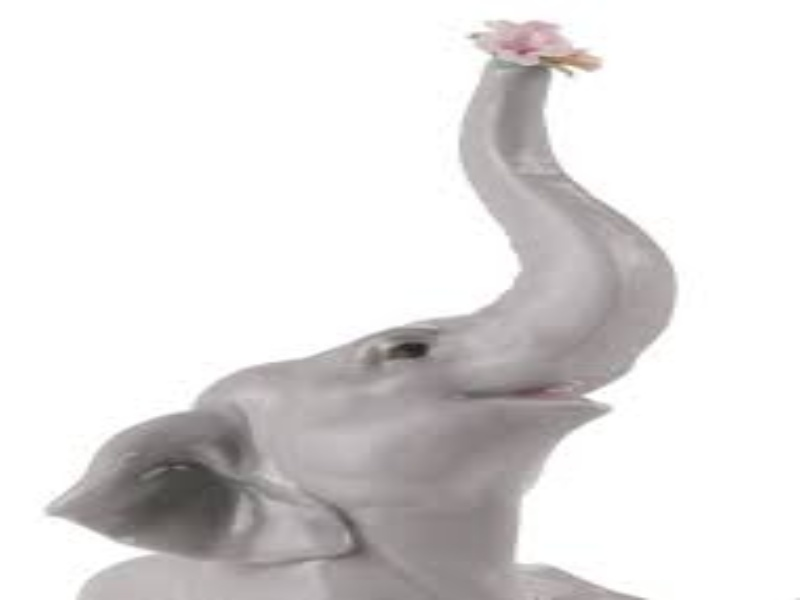elephant: (54, 1, 679, 598)
